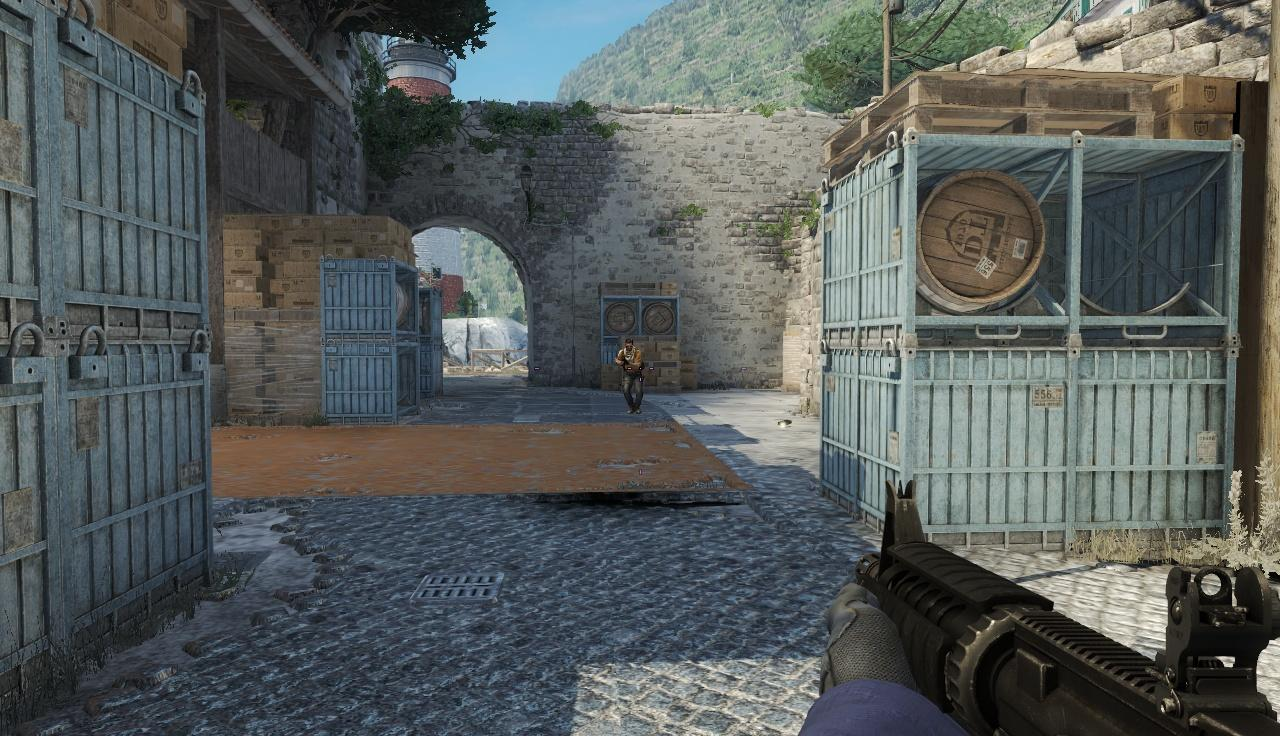rifle: (843, 482, 1280, 736)
tt: (618, 339, 643, 414)
tthead: (625, 338, 635, 350)
